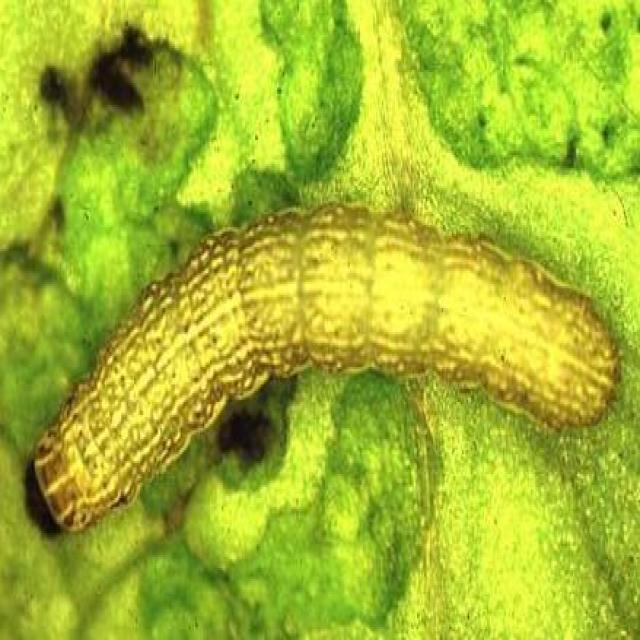BeetArmyWorm-Larva-: (27, 196, 622, 538)
